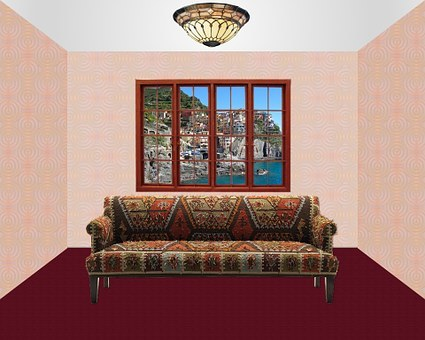sofa: (70, 181, 343, 309)
